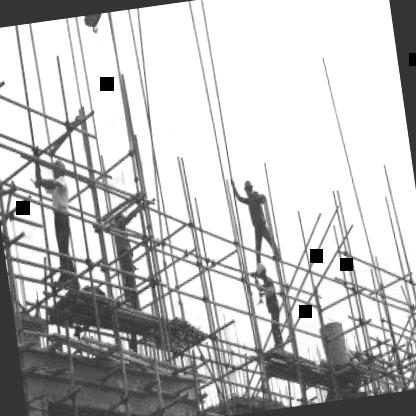helmet: (49, 156, 67, 180), (254, 258, 268, 281), (241, 176, 255, 198)
